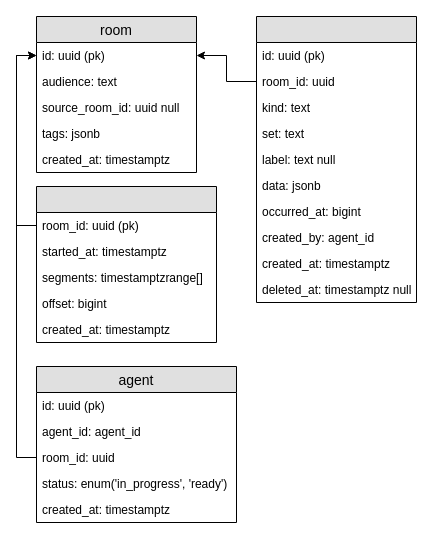
The diagram is 433 pixels wide and 539 high, and some of its shapes have lost their labels. The box of each missing label's shape, as (x1, y1, x2, y2) in pixels:
adjustment: (36, 186, 216, 342)
event: (256, 16, 416, 302)
